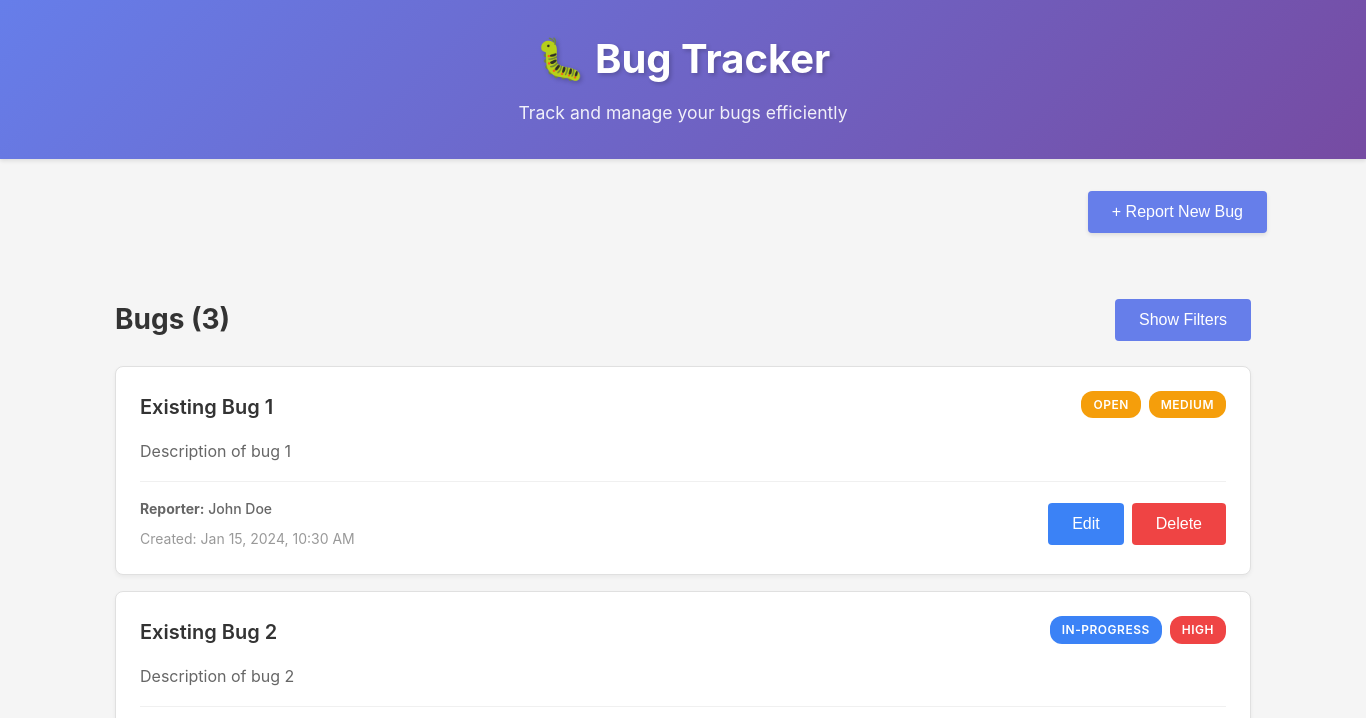
Bug Workflow Integration Tests › User Flow: Fill and Submit Bug Report Form › should complete full flow of creating a new bug report
Expected: the heading "Bugs (3)" is shown, [115,297,230,342]
Click "Report New Bug" button
Click the button "+ Report New Bug".
click(1177, 212)  # box [1088,191,1267,233]
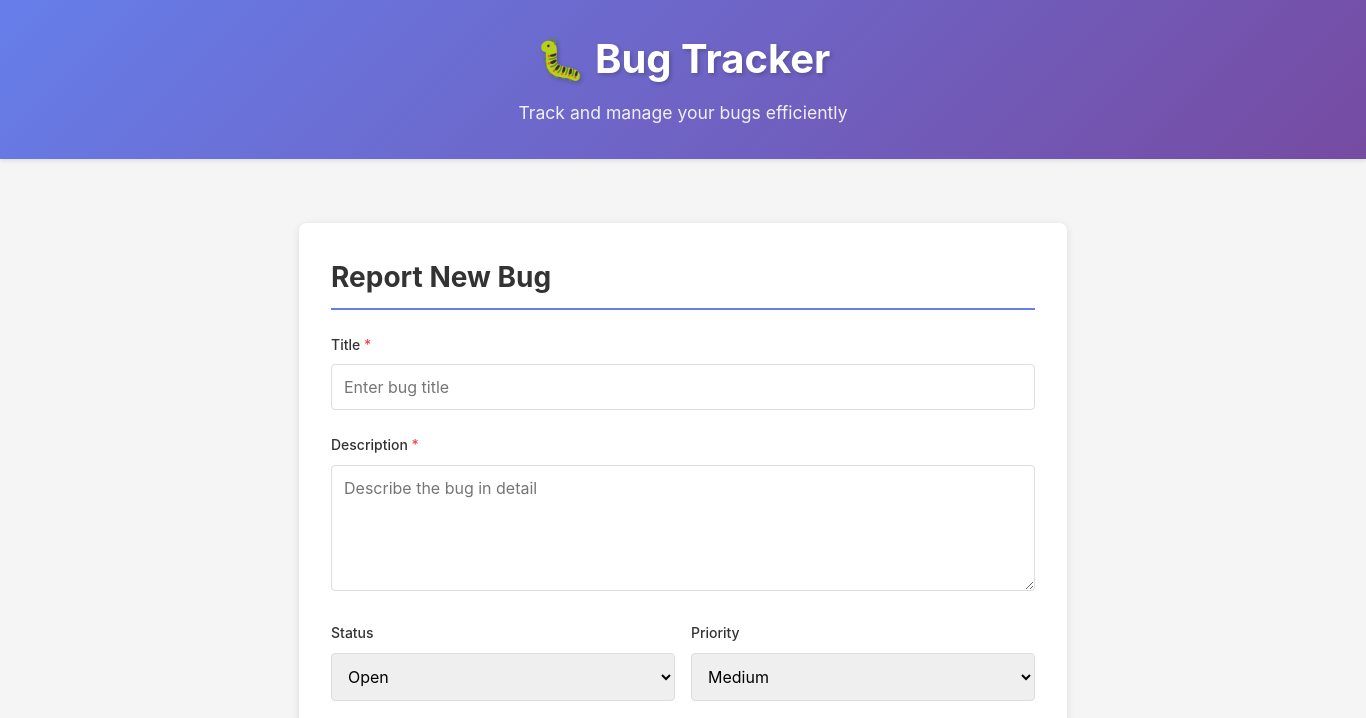
Expected: the heading "Report New Bug" is shown, [331,255,1035,310]
Type "New Bug Report" into the field labelled "Title *".
click(683, 387); type("New Bug Report")  # box [331,364,1035,410]
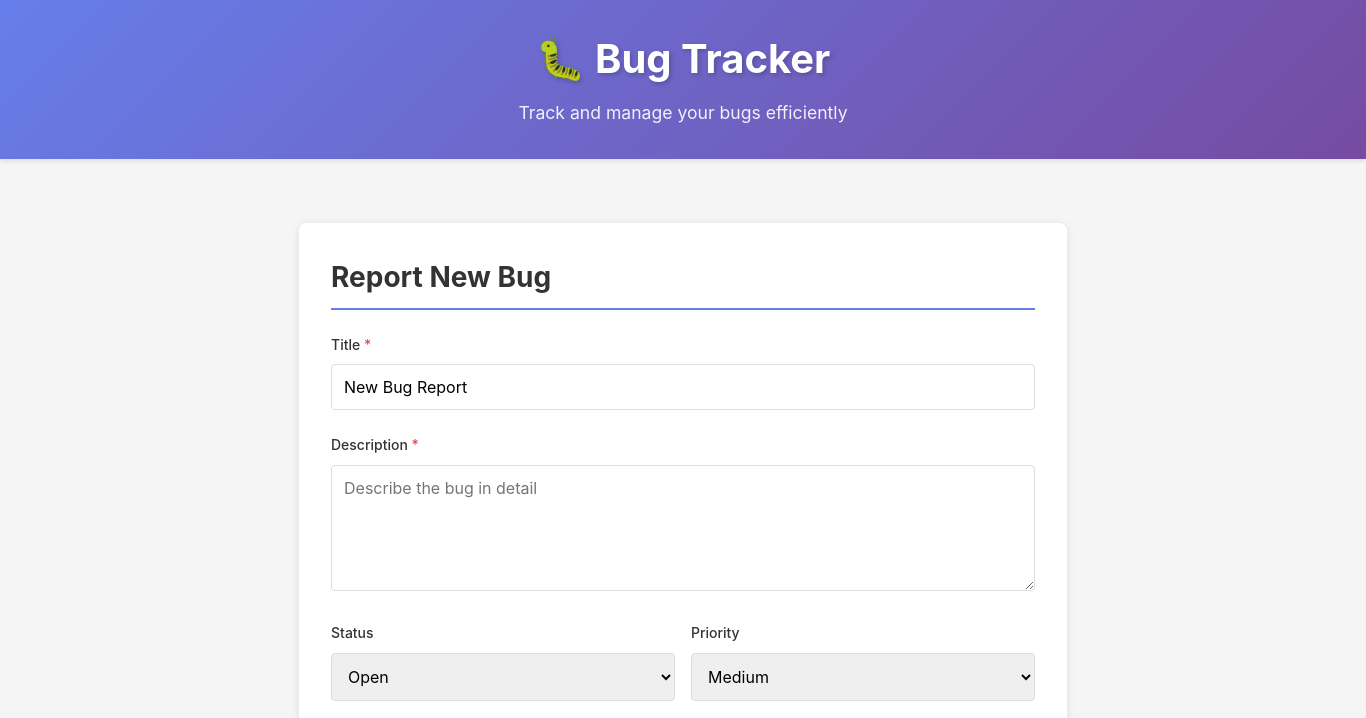
Type "This is a new bug that needs to be fixed" into the text box labelled "Description *".
click(683, 528); type("This is a new bug that needs to be fixed")  # box [331,465,1035,591]
(page scrolled)
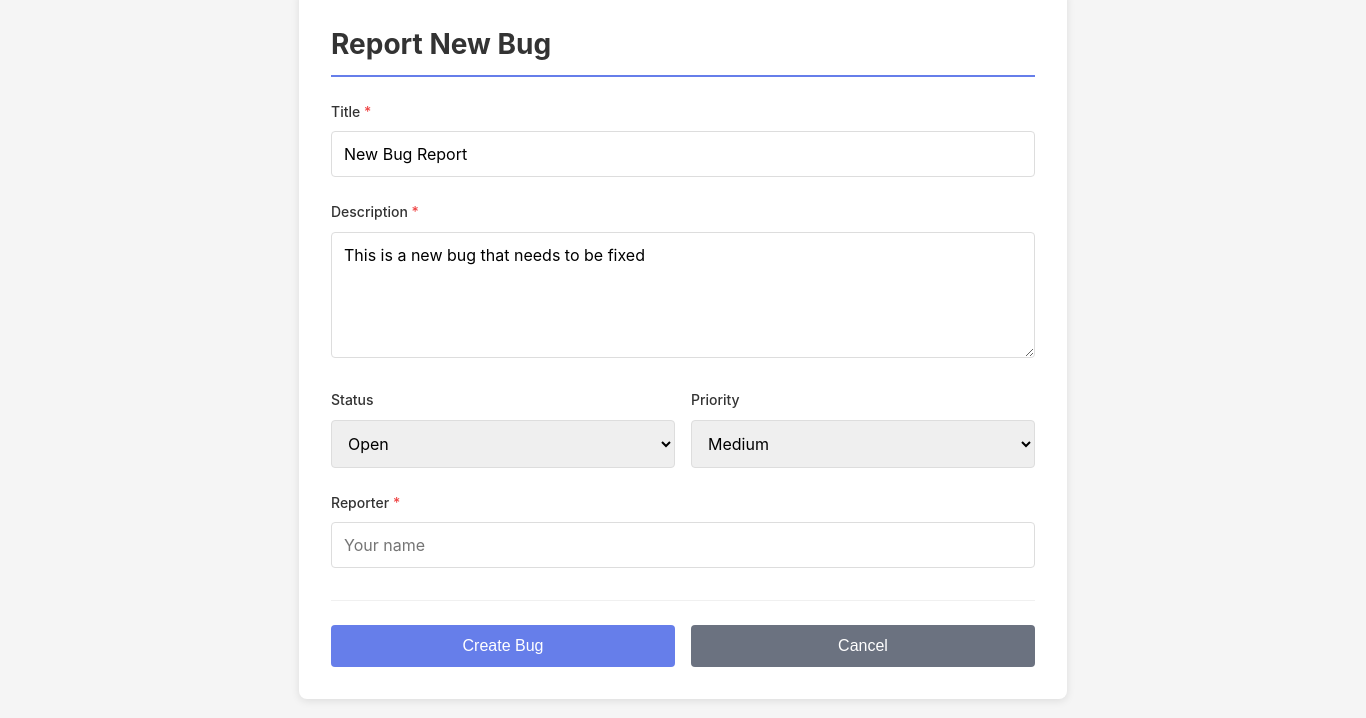
Type "Test User" into the field labelled "Reporter *".
click(683, 545); type("Test User")  # box [331,522,1035,568]
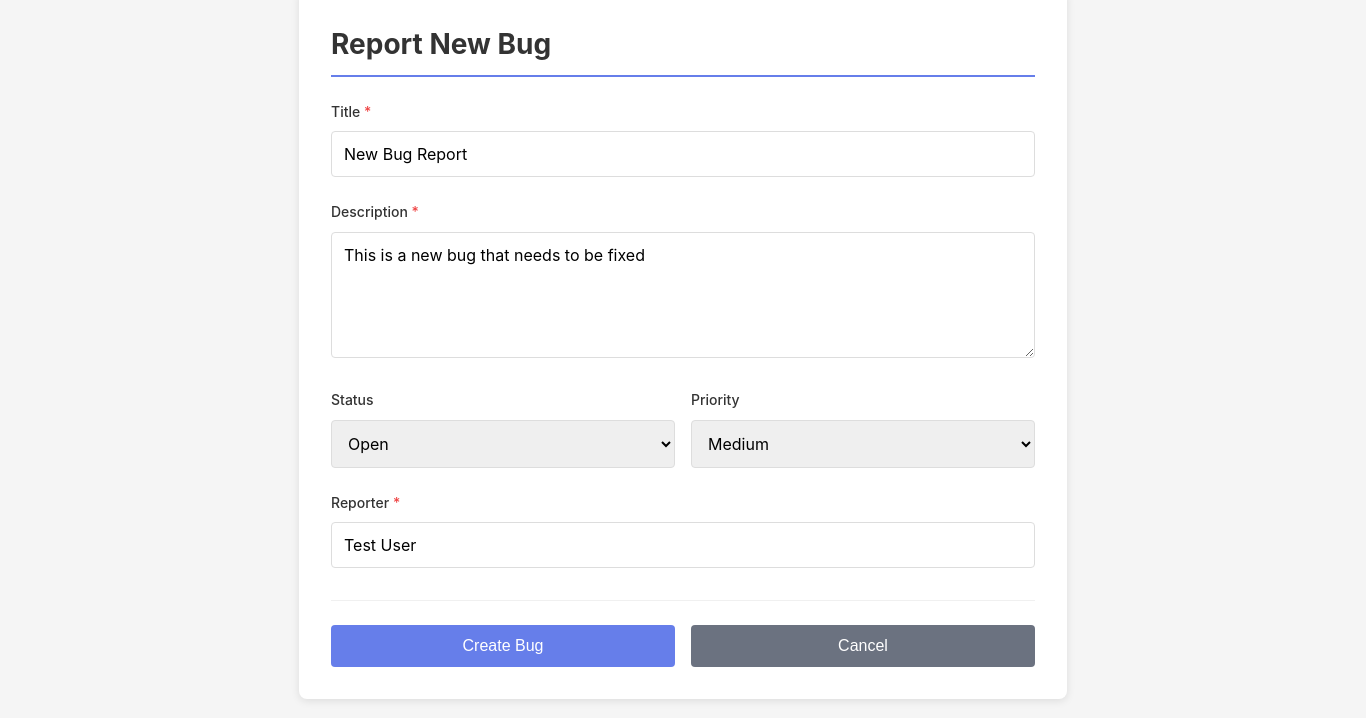
Select "Open" in the dropdown labelled "Status" at (503, 444), box [331,420,675,468]
Select "High" in the dropdown labelled "Priority" at (863, 444), box [691,420,1035,468]
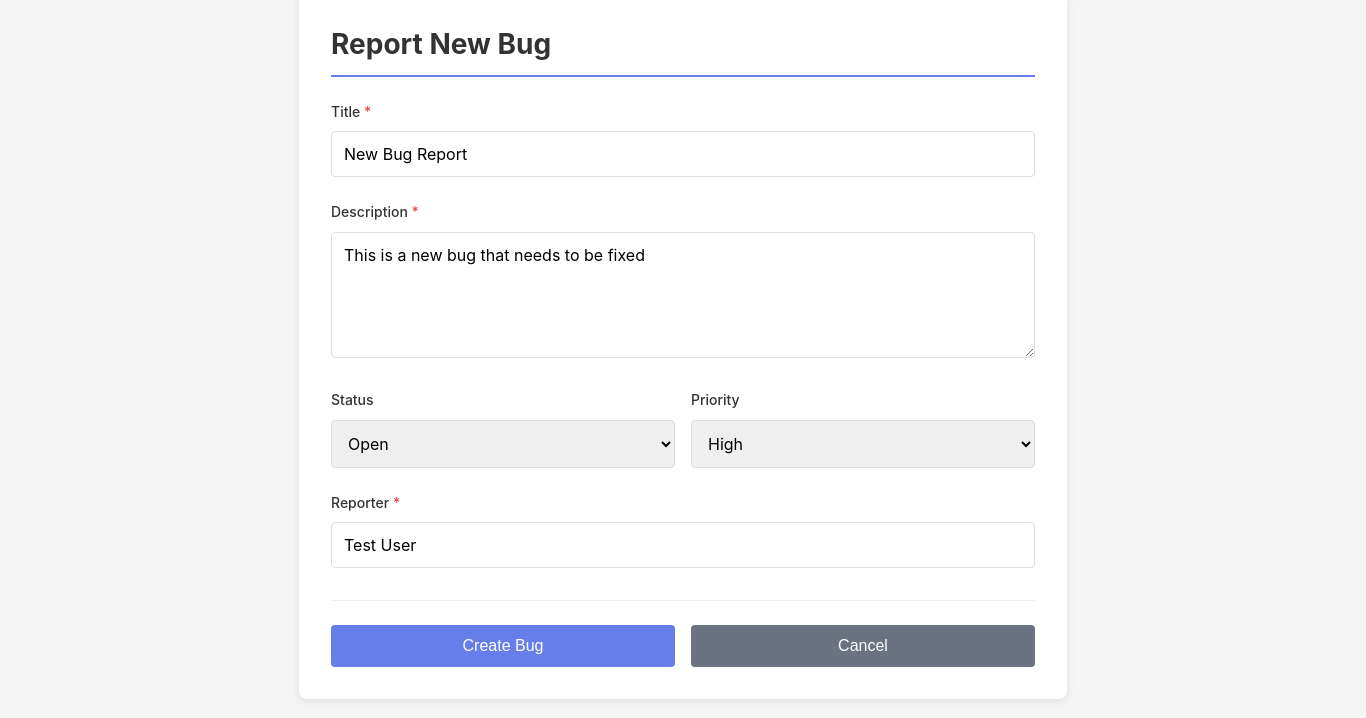
Submit the form
Click the button "Create Bug".
click(503, 646)  # box [331,625,675,667]
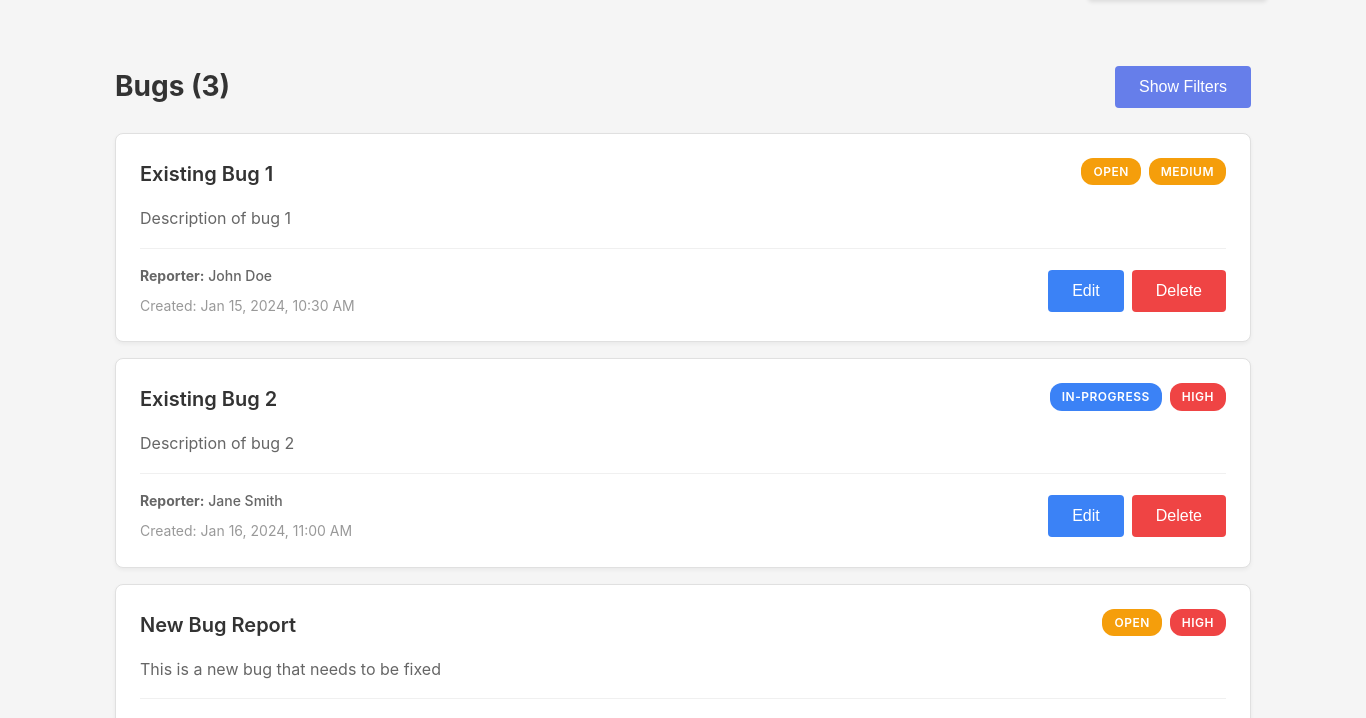
Expected: the heading "Bugs (3)" is shown, [115,64,230,109]
Expected: the heading "New Bug Report" is shown, [140,613,296,637]
